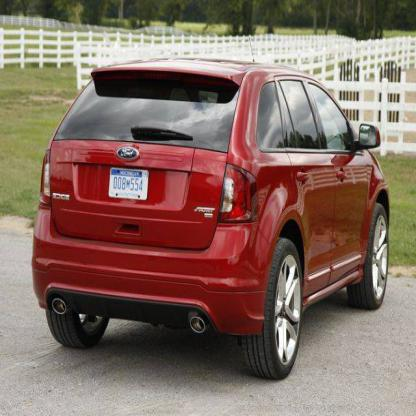Vehicle: (34, 69, 392, 382)
